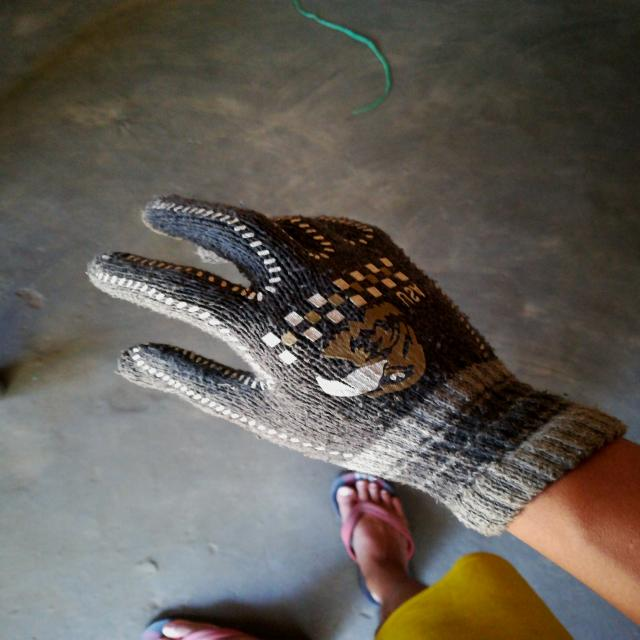glove: (82, 186, 636, 536)
